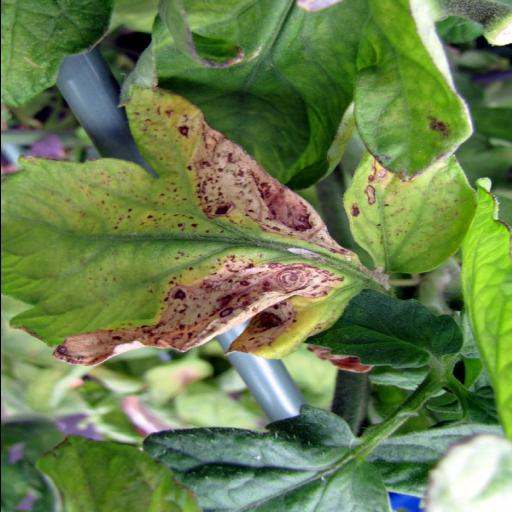Early Blight: (0, 90, 366, 366), (340, 149, 478, 275)
